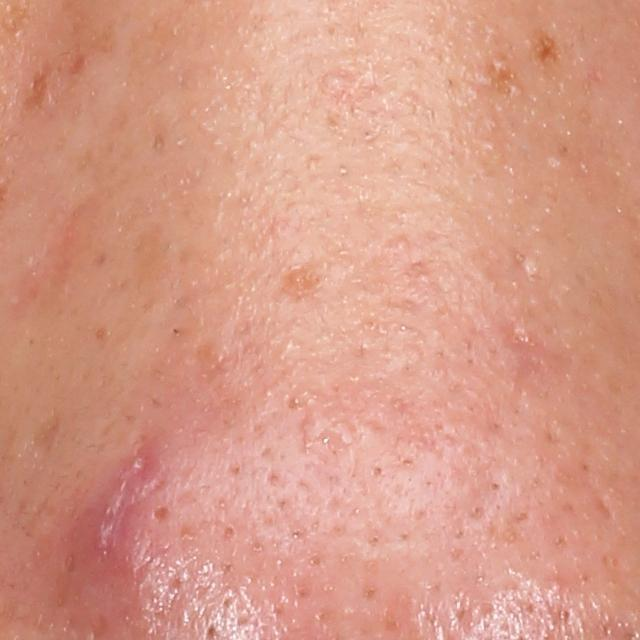atrophic_scar: (12, 195, 125, 318), (303, 392, 446, 467), (95, 440, 159, 562), (494, 312, 551, 400), (23, 408, 65, 469), (447, 587, 495, 634), (591, 484, 616, 526), (510, 248, 540, 281)
comedo: (320, 72, 344, 94), (222, 524, 240, 542)
melasma: (130, 226, 179, 294), (466, 51, 524, 97), (533, 31, 562, 69)
